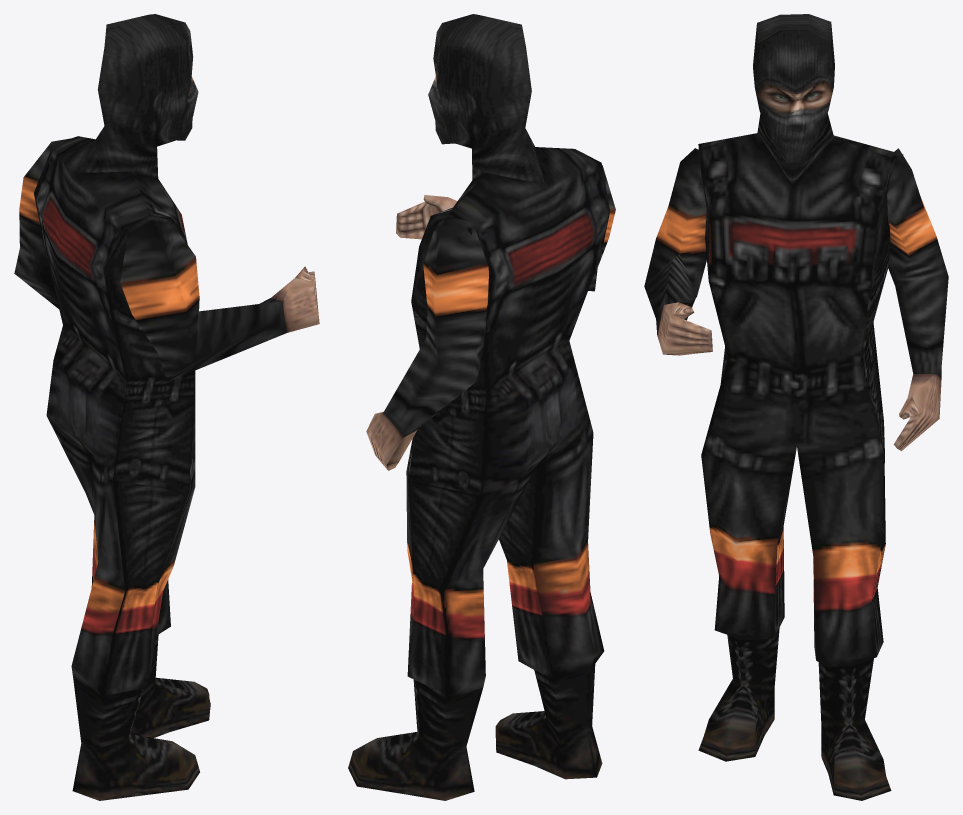
Rendered from spy2.glb.
The picture shows the model from 3 angles, left to right: view 1: azimuth 30°, elevation 25°; view 2: azimuth 150°, elevation 25°; view 3: azimuth 270°, elevation 25°; orthographic projection.
Parts seen in each view (by area): view 1: spy2; view 2: spy2; view 3: spy2.
Part boxes in pixels (box(x1,y1,x2,y2)): spy2: box(14, 14, 319, 800); spy2: box(348, 14, 615, 800); spy2: box(644, 14, 948, 800).
Bounding box in the file's own units: 23.39 × 74.51 × 28.02.
Materials: 1 (1 with a texture image).
